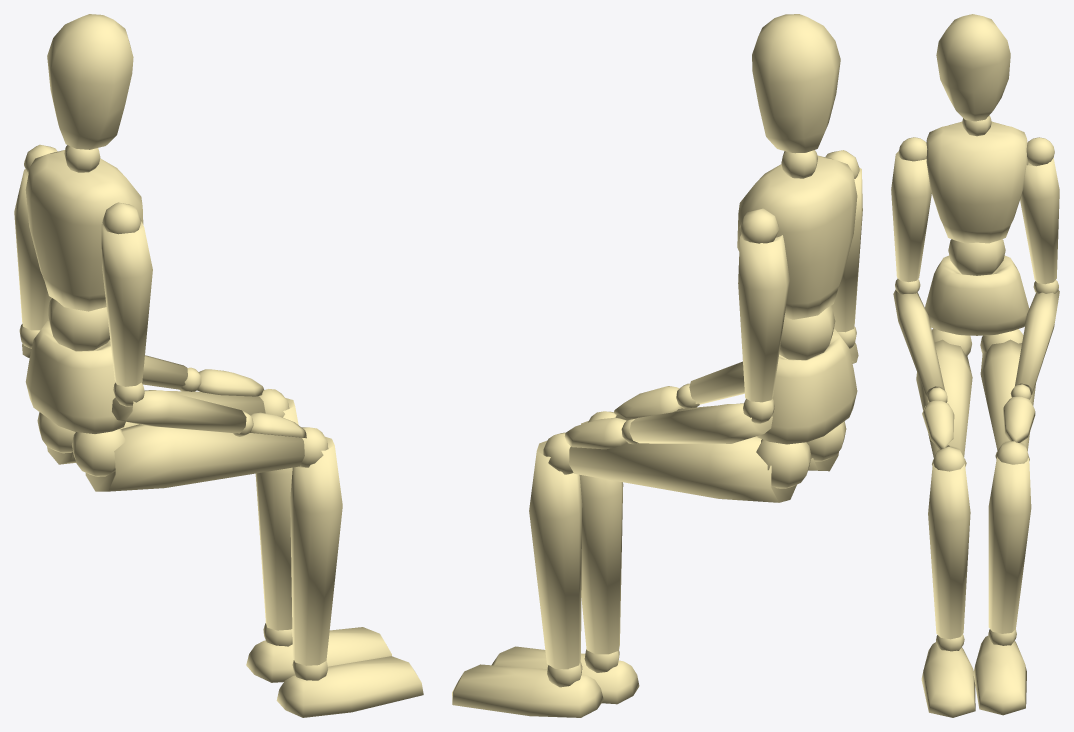
The model's file is mann-sitting.fbx.
The picture shows the model from 3 angles, left to right: view 1: azimuth 30°, elevation 25°; view 2: azimuth 150°, elevation 25°; view 3: azimuth 270°, elevation 25°; orthographic projection. The views are drawn at different scales.
Visible parts, largest first — view 1: Cylinder.011, Cylinder.010, Cylinder.018, Sphere.001, Cylinder.019, Cylinder.014, Sphere.005, Cylinder.017, Sphere.004, Cylinder.015, Cylinder.012, Cylinder.016 (+3 smaller); view 2: Cylinder.011, Cylinder.010, Cylinder.016, Sphere.001, Cylinder.017, Cylinder.012, Cylinder.019, Sphere.004, Cylinder.013, Sphere.005, Cylinder.014, Sphere.003 (+3 smaller); view 3: Cylinder.011, Cylinder.010, Cylinder.017, Cylinder.019, Sphere.001, Cylinder.014, Cylinder.012, Sphere.004, Sphere.005, Cylinder.018, Cylinder.016, Cylinder.015 (+3 smaller).
Part boxes in pixels (x1,y1,x2,y2): Cylinder.011: (24,144,143,311); Cylinder.010: (25,298,125,476); Cylinder.018: (85,424,328,491); Sphere.001: (47,14,133,149); Cylinder.019: (290,436,342,665); Cylinder.014: (101,221,152,406); Sphere.005: (276,656,423,717); Cylinder.017: (255,398,298,630); Sphere.004: (246,623,391,682); Cylinder.015: (112,390,246,433); Cylinder.012: (14,169,51,348); Cylinder.016: (47,389,289,464); Cylinder.011: (737,150,859,319); Cylinder.010: (756,306,857,488); Cylinder.016: (543,432,796,502); Sphere.001: (752,14,840,153); Cylinder.017: (529,440,582,669); Cylinder.012: (738,234,789,423); Cylinder.019: (579,421,623,654); Sphere.004: (452,661,603,717); Cylinder.013: (629,404,772,443); Sphere.005: (491,646,639,704); Cylinder.014: (830,168,862,348); Sphere.003: (614,383,699,418); Cylinder.011: (899,115,1054,243); Cylinder.010: (925,239,1029,355); Cylinder.017: (988,457,1031,633); Cylinder.019: (928,463,970,639); Sphere.001: (936,14,1010,121); Cylinder.014: (891,151,931,294); Cylinder.012: (1020,158,1059,293); Sphere.004: (973,629,1026,715); Sphere.005: (921,634,975,717); Cylinder.018: (916,339,972,471); Cylinder.016: (980,339,1035,464); Cylinder.015: (893,289,944,396).
Bounding box in the file's own units: 45.87 × 87.83 × 23.19.
